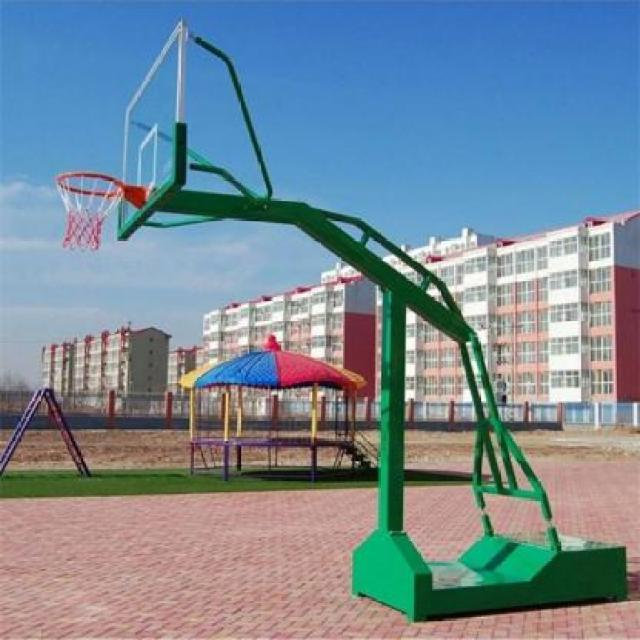rim: (58, 170, 120, 252)
